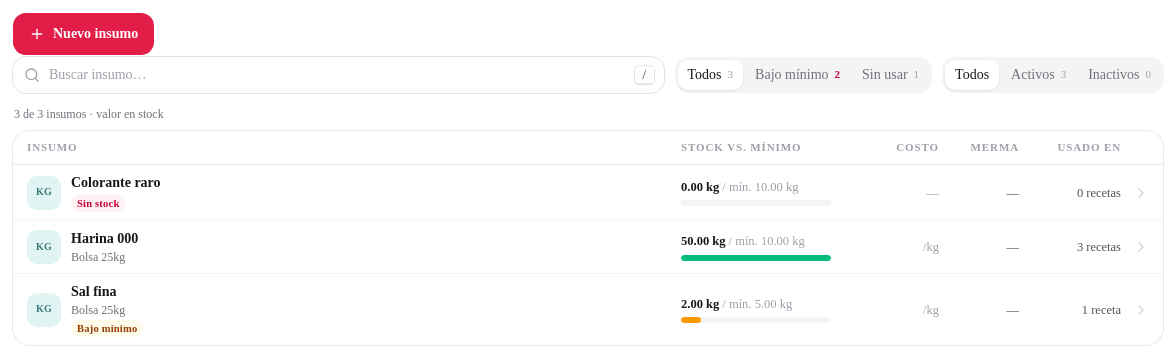
Test: IngredientsTab (spec 205 · D10) › buscar filtra por nombre
Type "sal" into the search field with placeholder "Buscar insumo…" at x=338, y=75, box [12, 56, 664, 94]
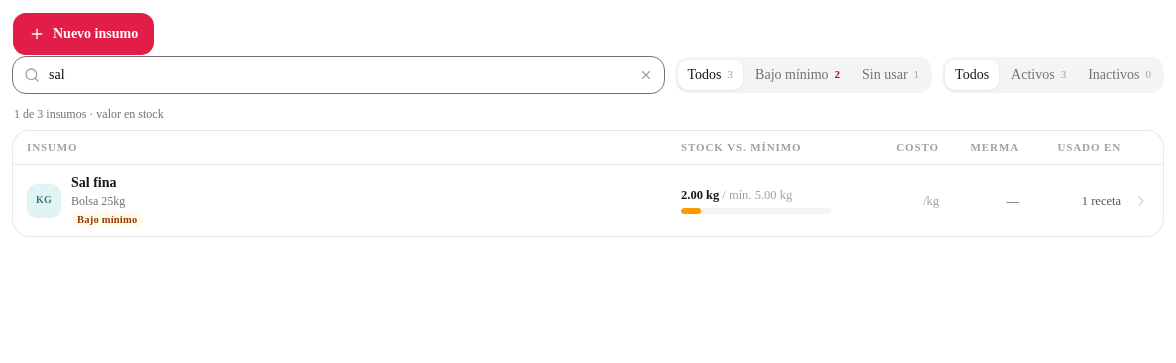
Check: the text "Sal fina" is shown, box [71, 175, 116, 190]
Check: the text "Harina 000" is gone
